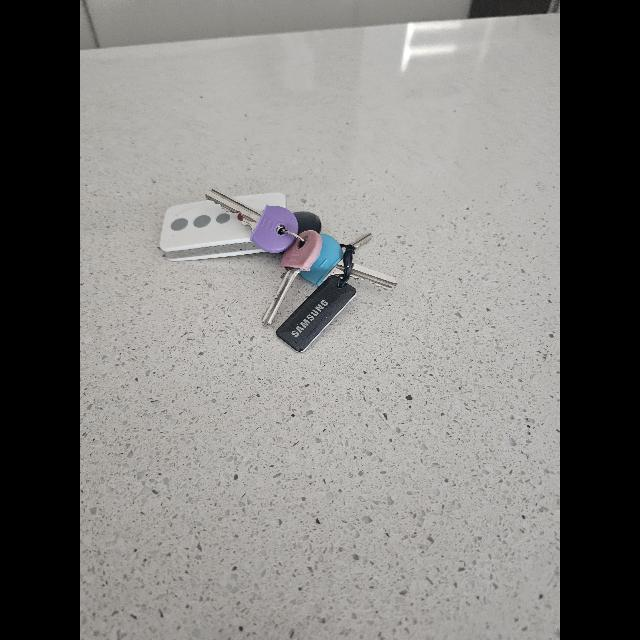Keys: (210, 194, 394, 332)
